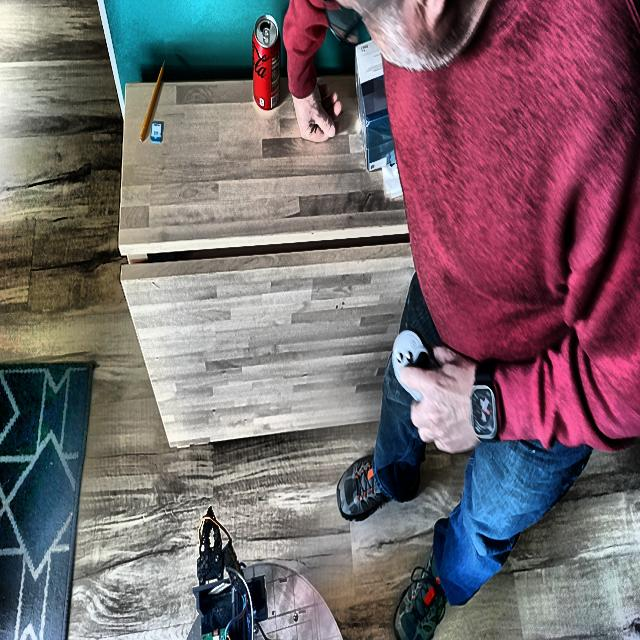Can: (253, 16, 280, 110)
